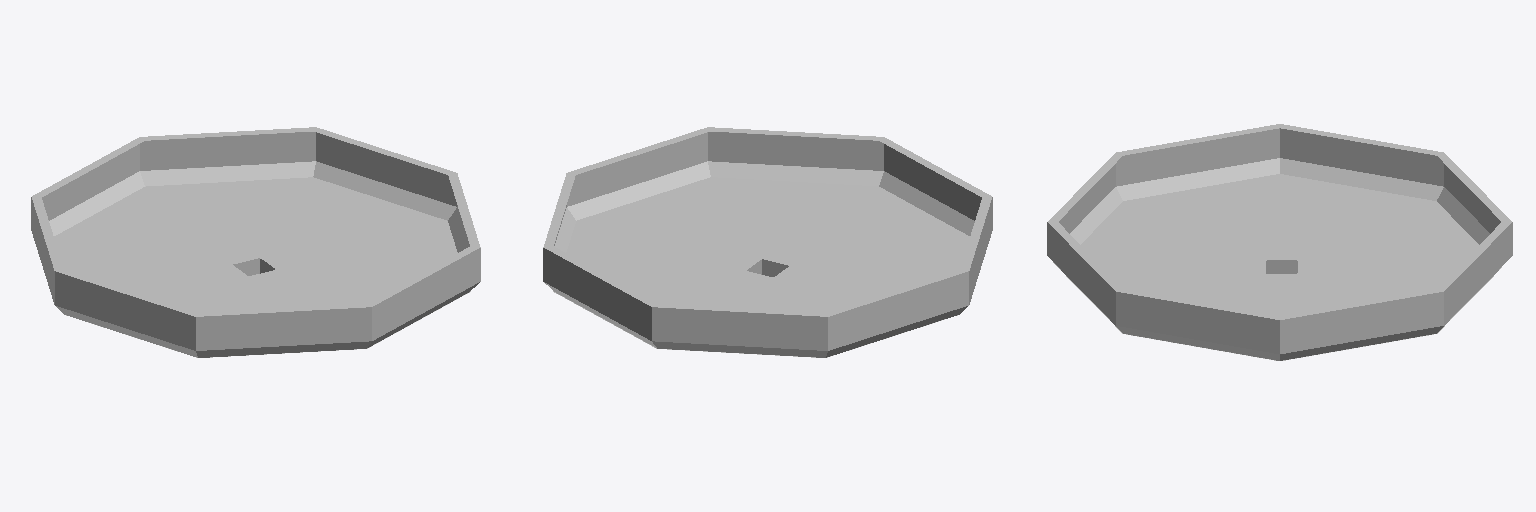
File: octagon.obj
3 views of the same model, side by side, from view 1: azimuth 30°, elevation 25°; view 2: azimuth 150°, elevation 25°; view 3: azimuth 270°, elevation 25° (orthographic).
Parts seen in each view (by area): view 1: polySurface3; view 2: polySurface3; view 3: polySurface3.
Boxes of the visible parts, box(x1,y1,x2,y2) form: polySurface3: box(31, 127, 480, 357); polySurface3: box(543, 127, 992, 357); polySurface3: box(1047, 124, 1512, 360).
Size of the model in its own units: 23.76 by 3.83 by 23.76.